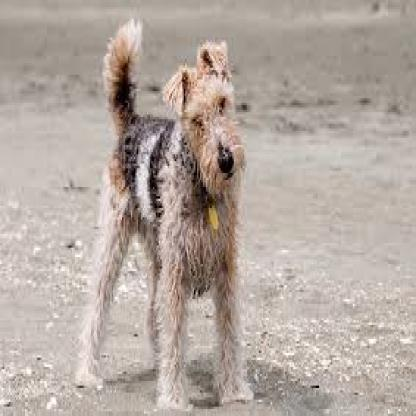Fox terrier: (76, 16, 254, 416)
